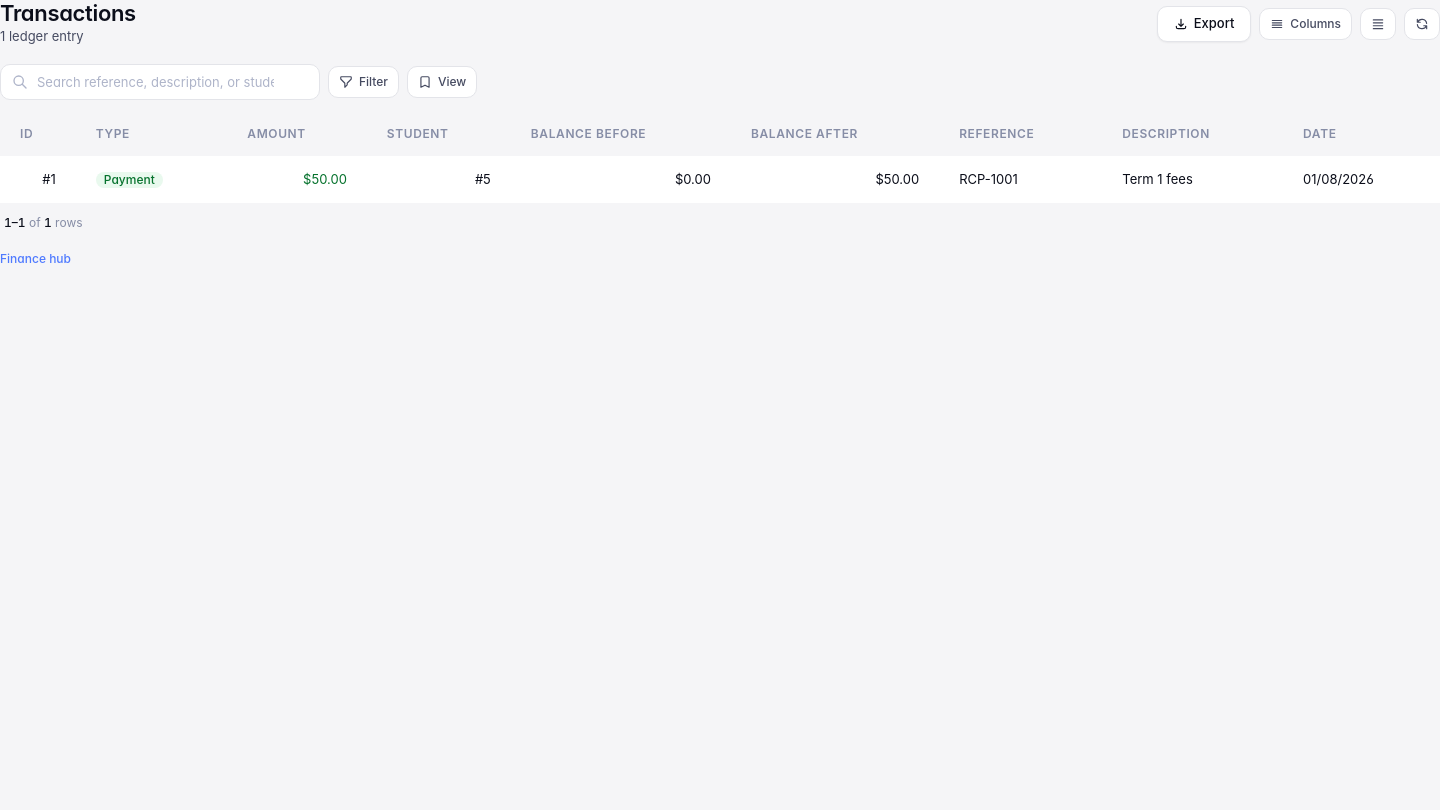
Test: Transactions workspace (P13) › does not offer range filters the backend cannot honor (P13 filterable opt-out)
This screenshot has width=1440, height=810.
Expected: the text "#1" is shown, [0, 156, 76, 203]
Click the button with aria-label "Add filter": [364, 82] box [328, 66, 399, 98]
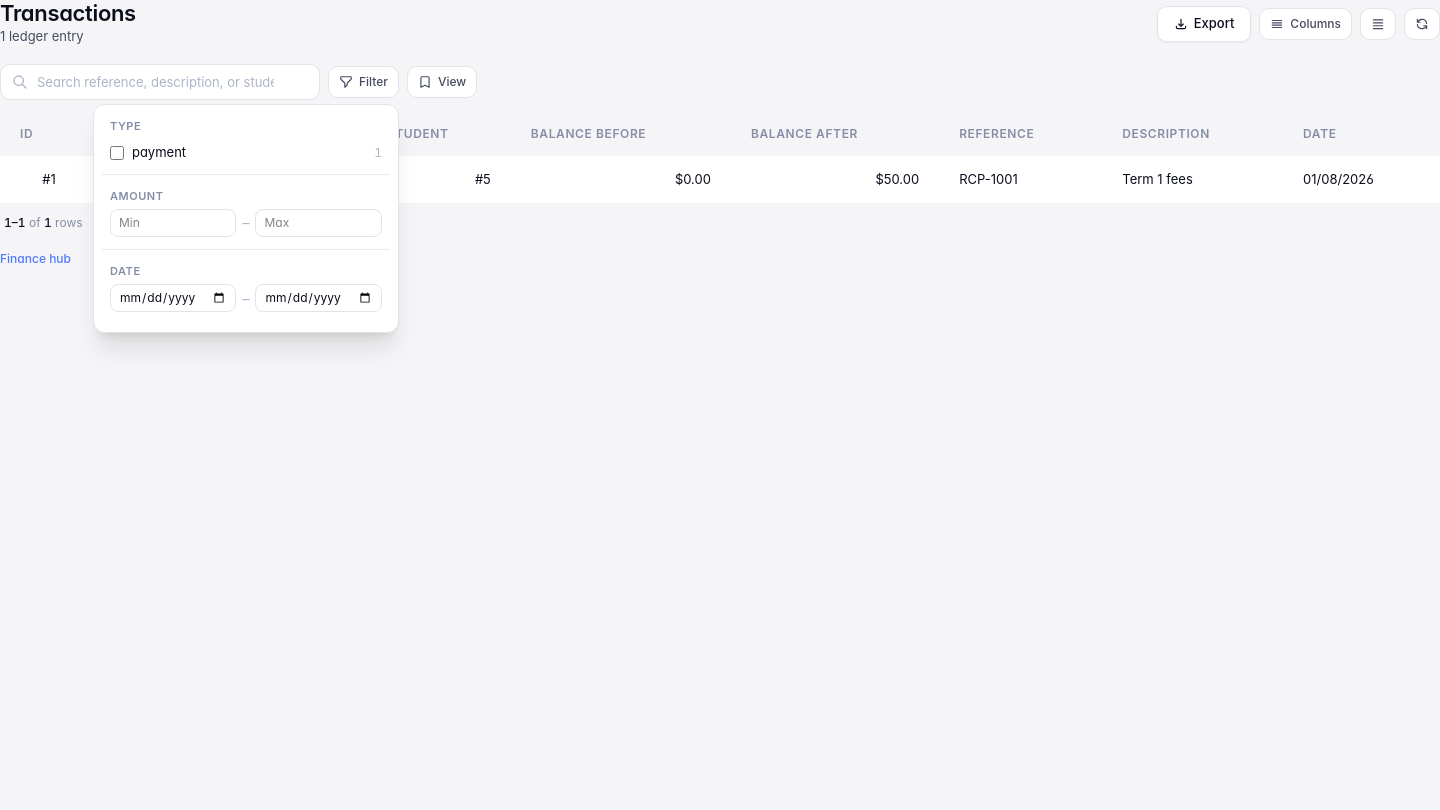
Expected: the number field named "Amount minimum" is shown, [110, 209, 236, 237]
